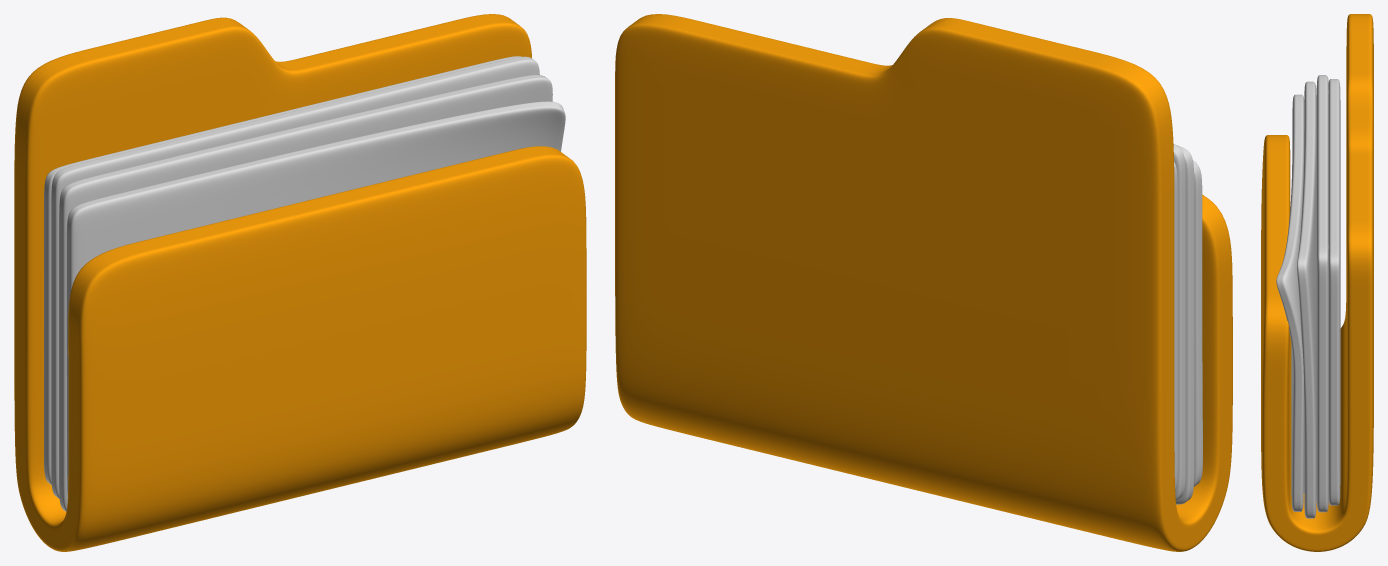
File: folder.glb
The picture shows the model from 3 angles, left to right: view 1: azimuth 30°, elevation 25°; view 2: azimuth 150°, elevation 25°; view 3: azimuth 270°, elevation 25°; orthographic projection. The views are drawn at different scales.
Parts seen in each view (by area): view 1: Folder; view 2: Folder; view 3: Folder.
Boxes of the visible parts, x1,y1,x2,y2 form: Folder: [14, 14, 586, 551]; Folder: [615, 14, 1232, 551]; Folder: [1261, 14, 1373, 551].
Size of the model in its own units: 1.9 by 1.65 by 0.4669.
